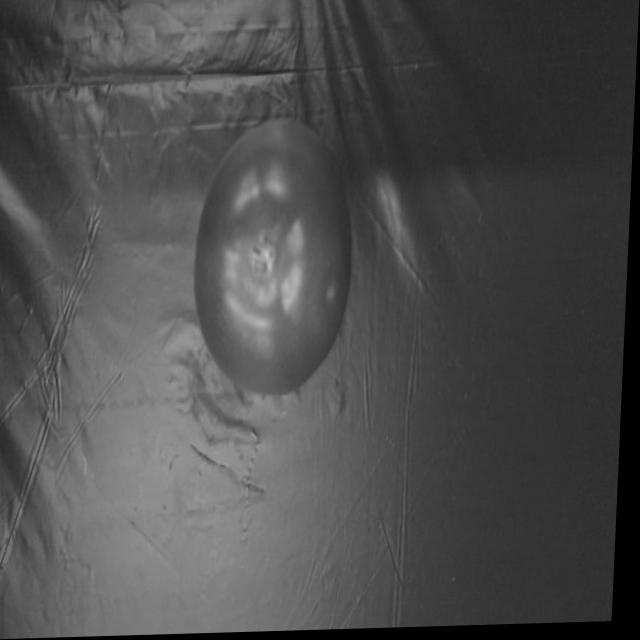kirmizi: (179, 96, 369, 409)
